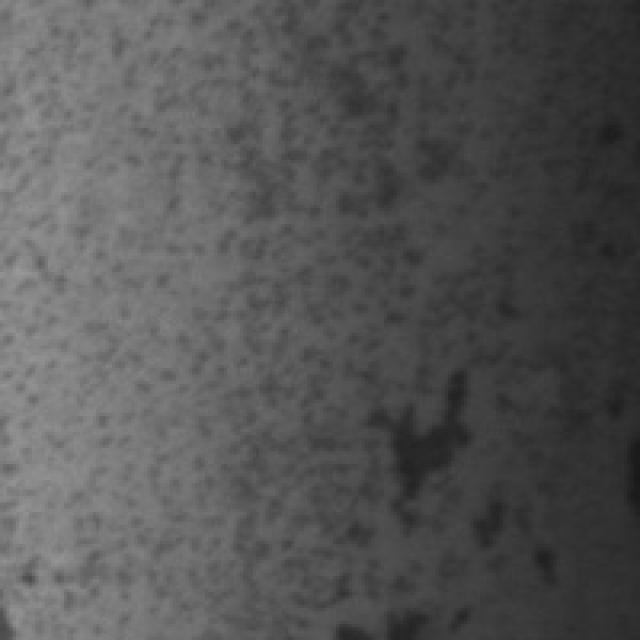pitted_surface: (0, 6, 563, 637)
